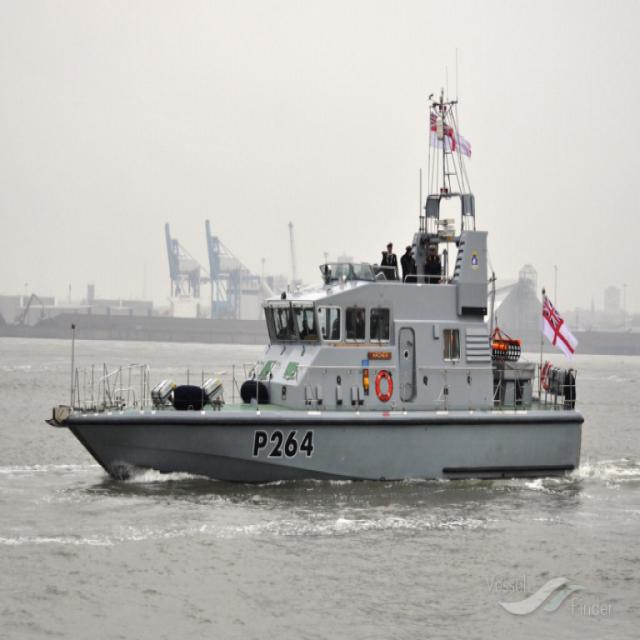Naval Ship: (52, 97, 584, 482)
